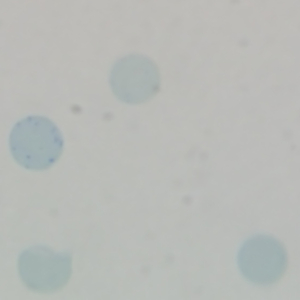erythrocyte: (14, 243, 73, 296), (234, 233, 289, 288), (107, 52, 161, 107)
punctate reticulocyte: (6, 115, 64, 172)
